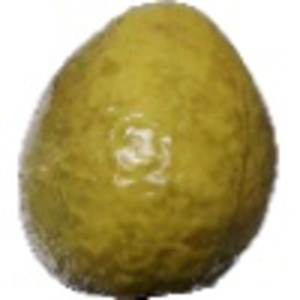goiaba: (11, 5, 281, 288)
